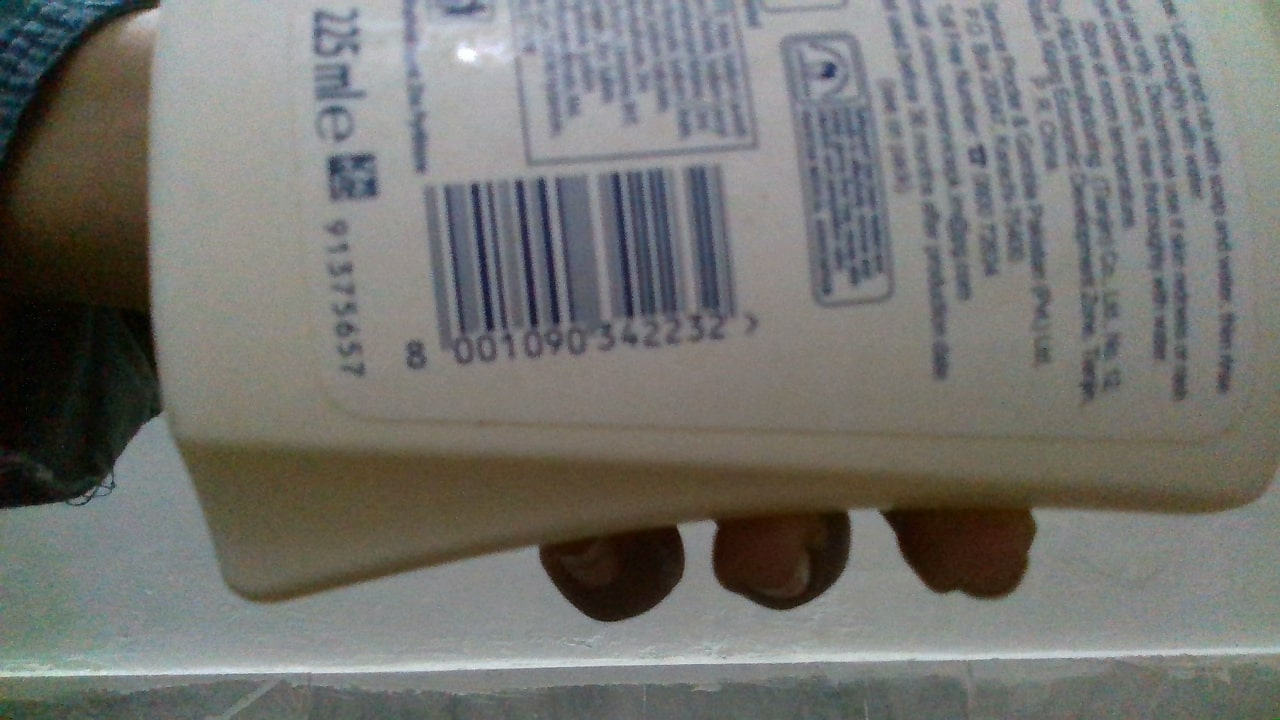Barcode: (415, 159, 749, 368)
